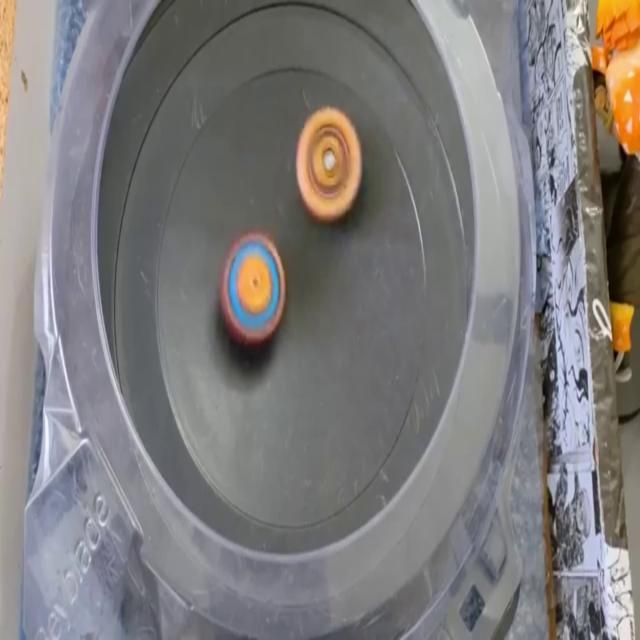Beyblade: (220, 232, 288, 349), (296, 108, 364, 224)
